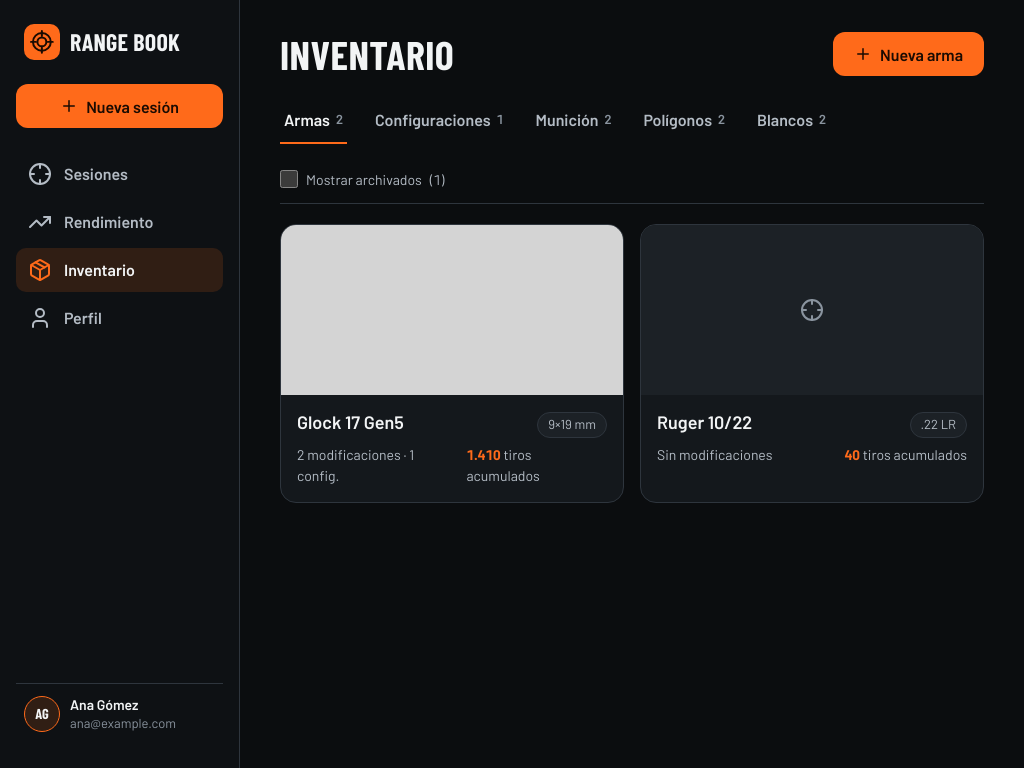
Test: InventoryScreen › armas › "Nueva arma" abre el formulario sobre la lista
Click the link "Nueva arma" at (909, 54), box [833,32,984,76]
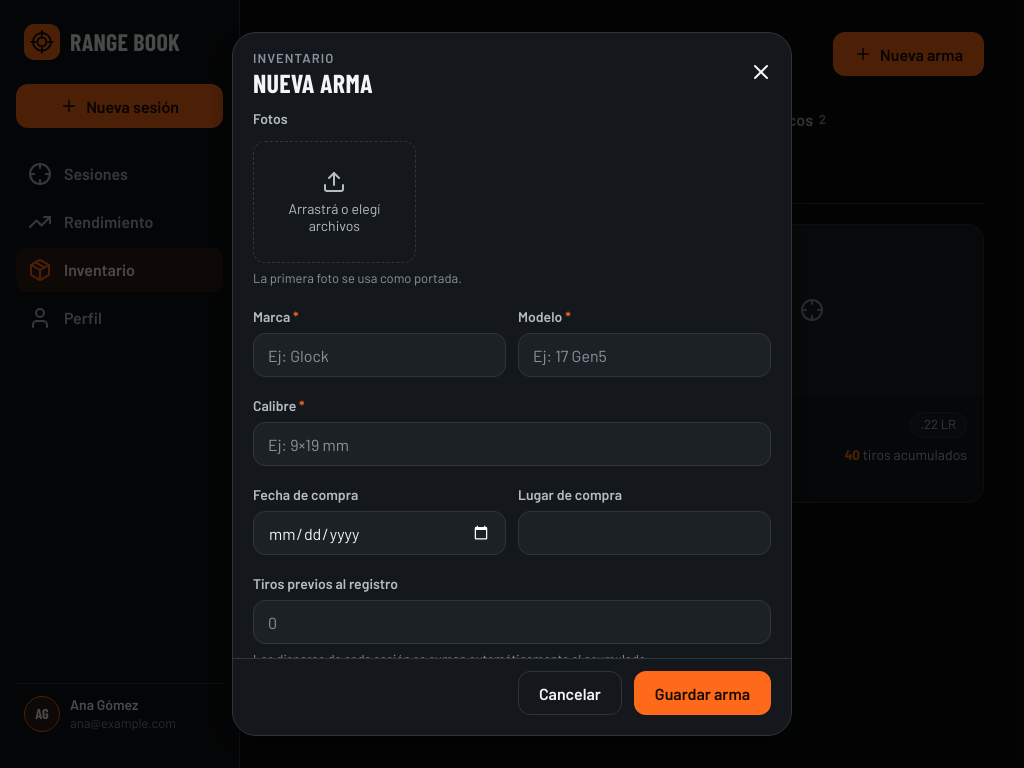
Expected: the list named "Armas" is shown, [280,224,984,503]
Now the heading "Nueva arma" is shown, box [253,68,373,96]
